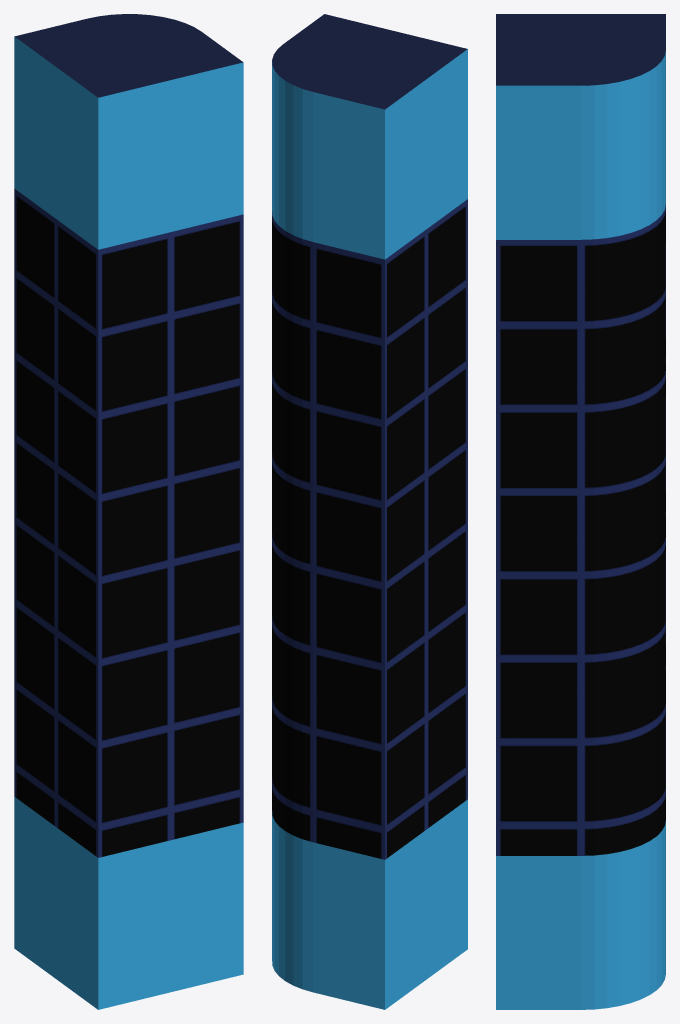
The model's file is wall_center_bevel_1.glb.
The picture shows the model from 3 angles, left to right: view 1: azimuth 30°, elevation 25°; view 2: azimuth 150°, elevation 25°; view 3: azimuth 270°, elevation 25°; orthographic projection. The views are drawn at different scales.
Visible parts, largest first — view 1: WallCenterBevel1; view 2: WallCenterBevel1; view 3: WallCenterBevel1.
Boxes of the visible parts, box(x1,y1,x2,y2) form: WallCenterBevel1: box(14, 14, 243, 1009); WallCenterBevel1: box(272, 14, 467, 1009); WallCenterBevel1: box(496, 14, 665, 1009).
Bounding box in the file's own units: 0.5 × 3 × 0.5.
3 materials, 1 textured.
